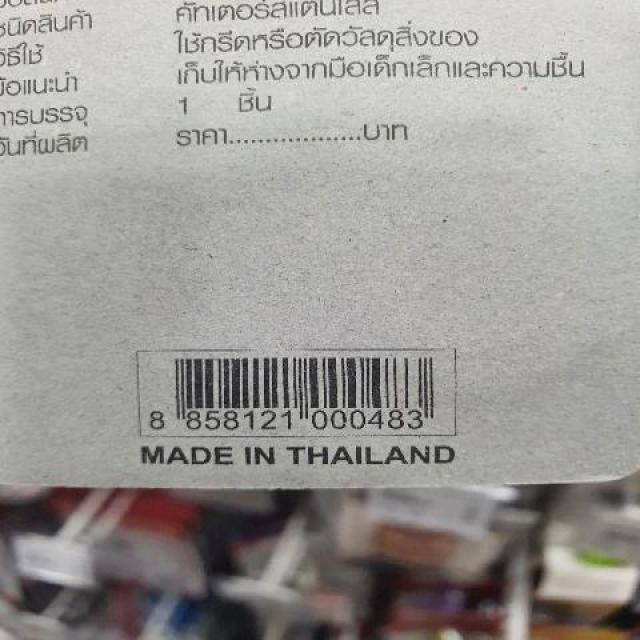Barcode: (138, 350, 458, 431)
